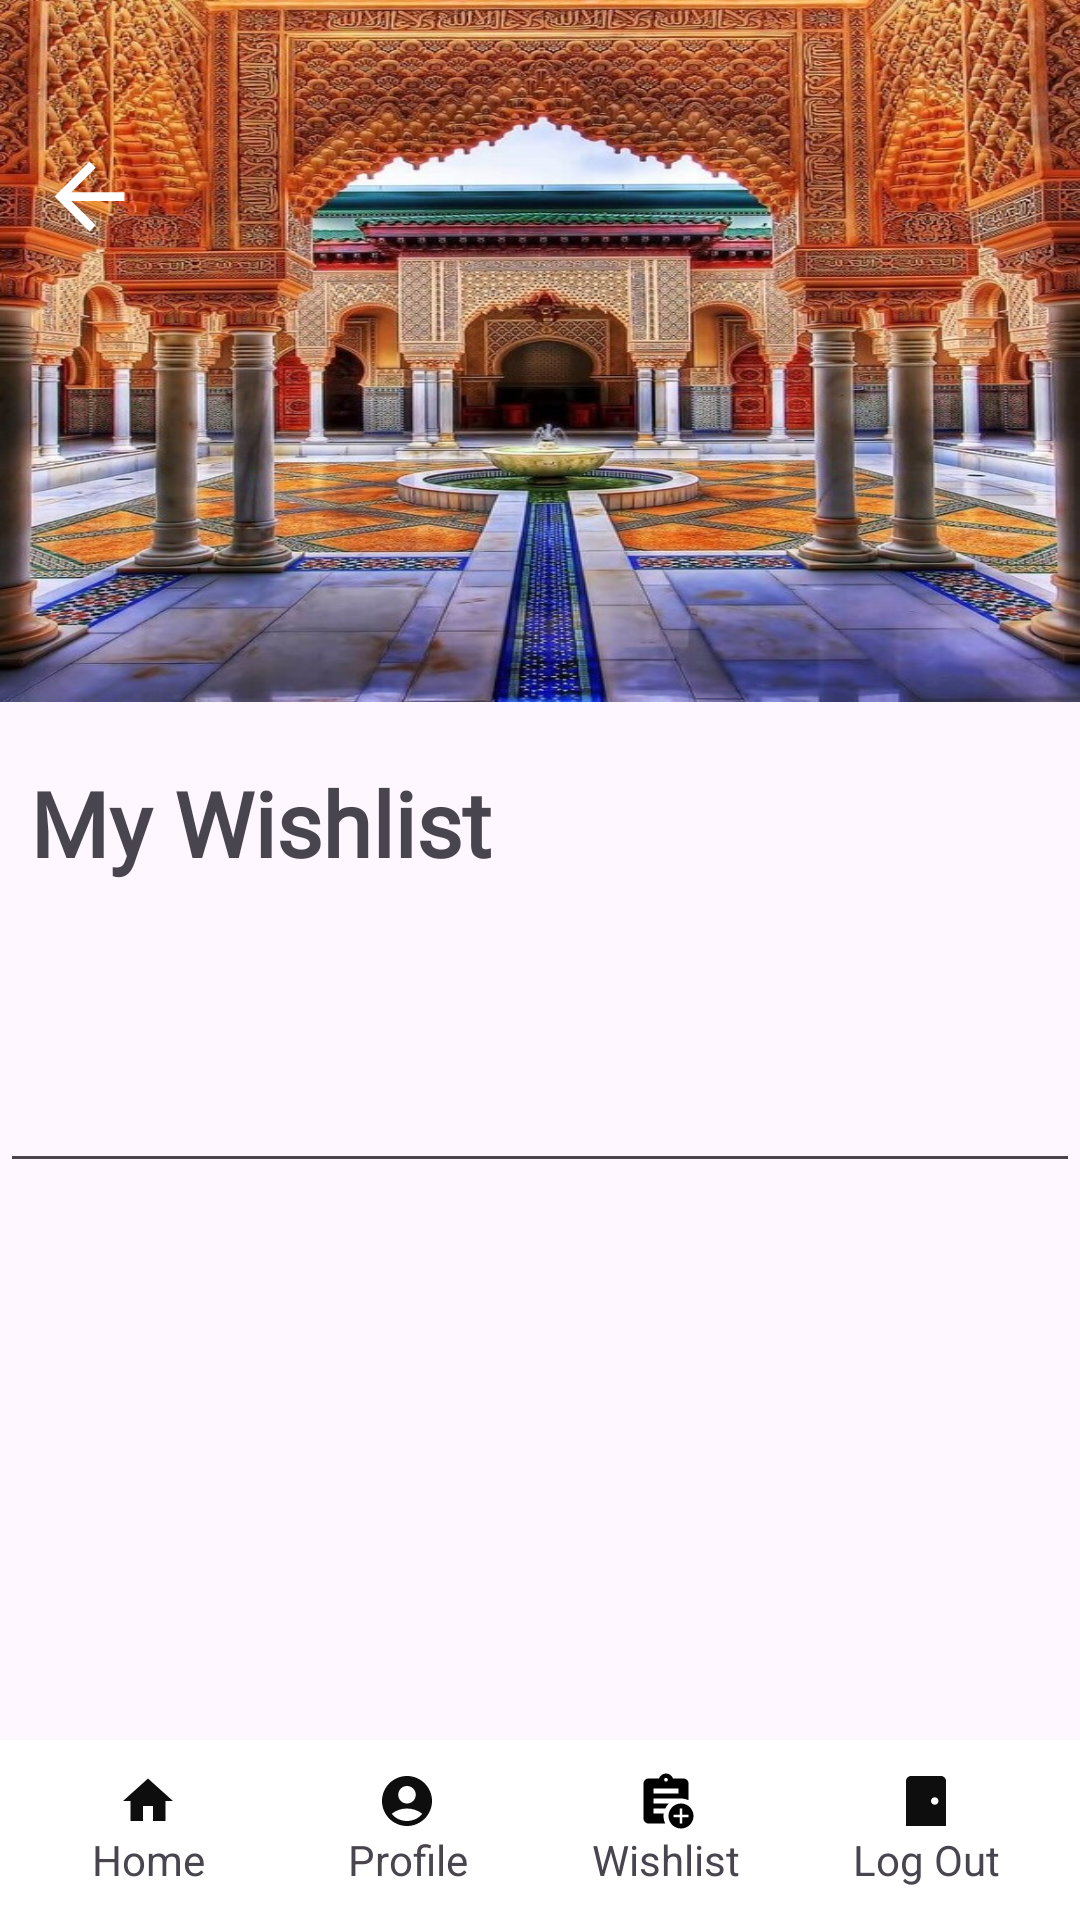

Screen size 1080*1920. Icon name, then its center in pixels as [x,y]:
account circle: [407,1801]
assignment add: [668,1801]
back: [89,196]
sensor door: [926,1801]
